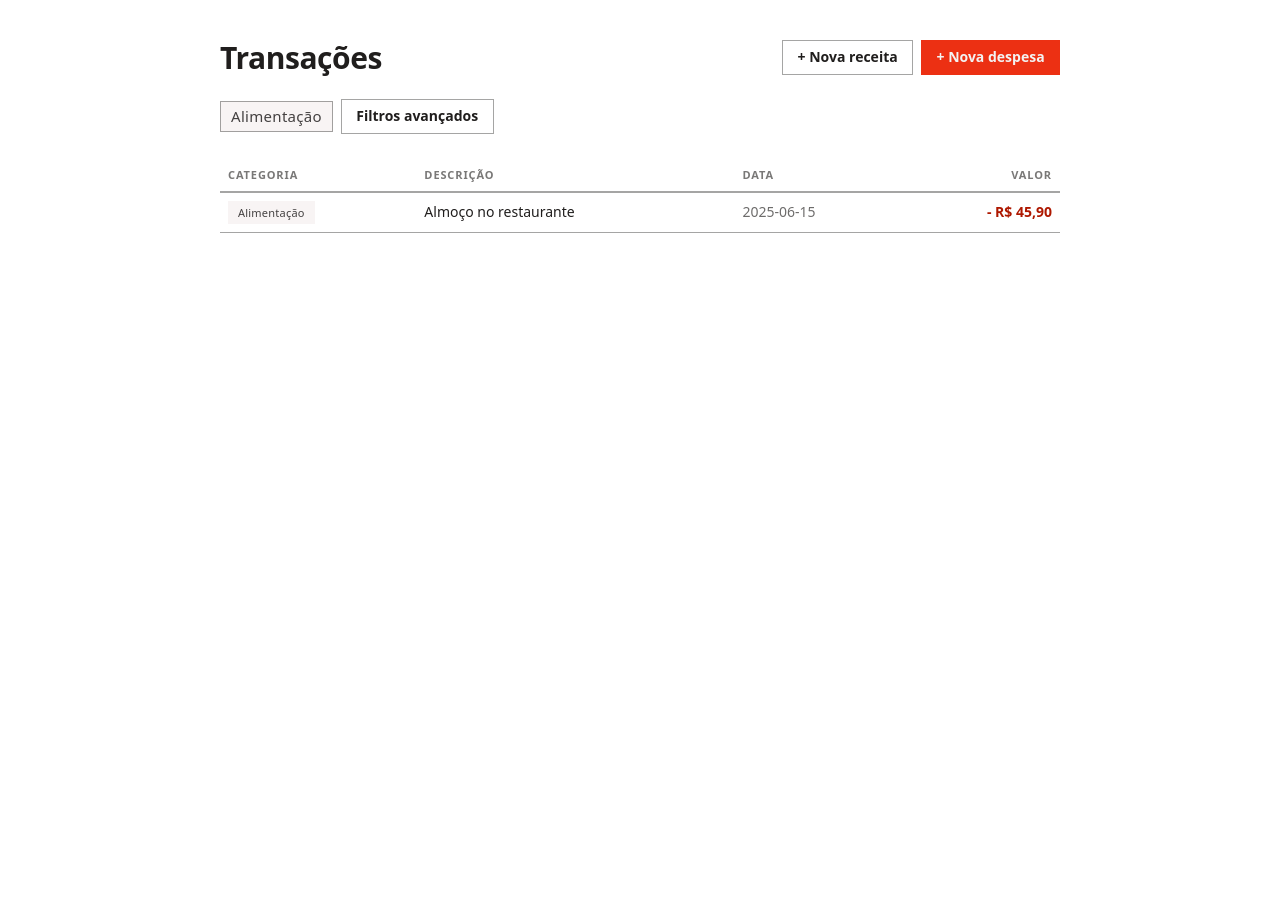
Test case: TransactionsListPage › "Excluir" no detalhe abre a confirmação e exclui com sucesso (FEAT-20)
Click the text "Almoço no restaurante". click: coordinates (575, 212)
box: 416,192 -> 734,232
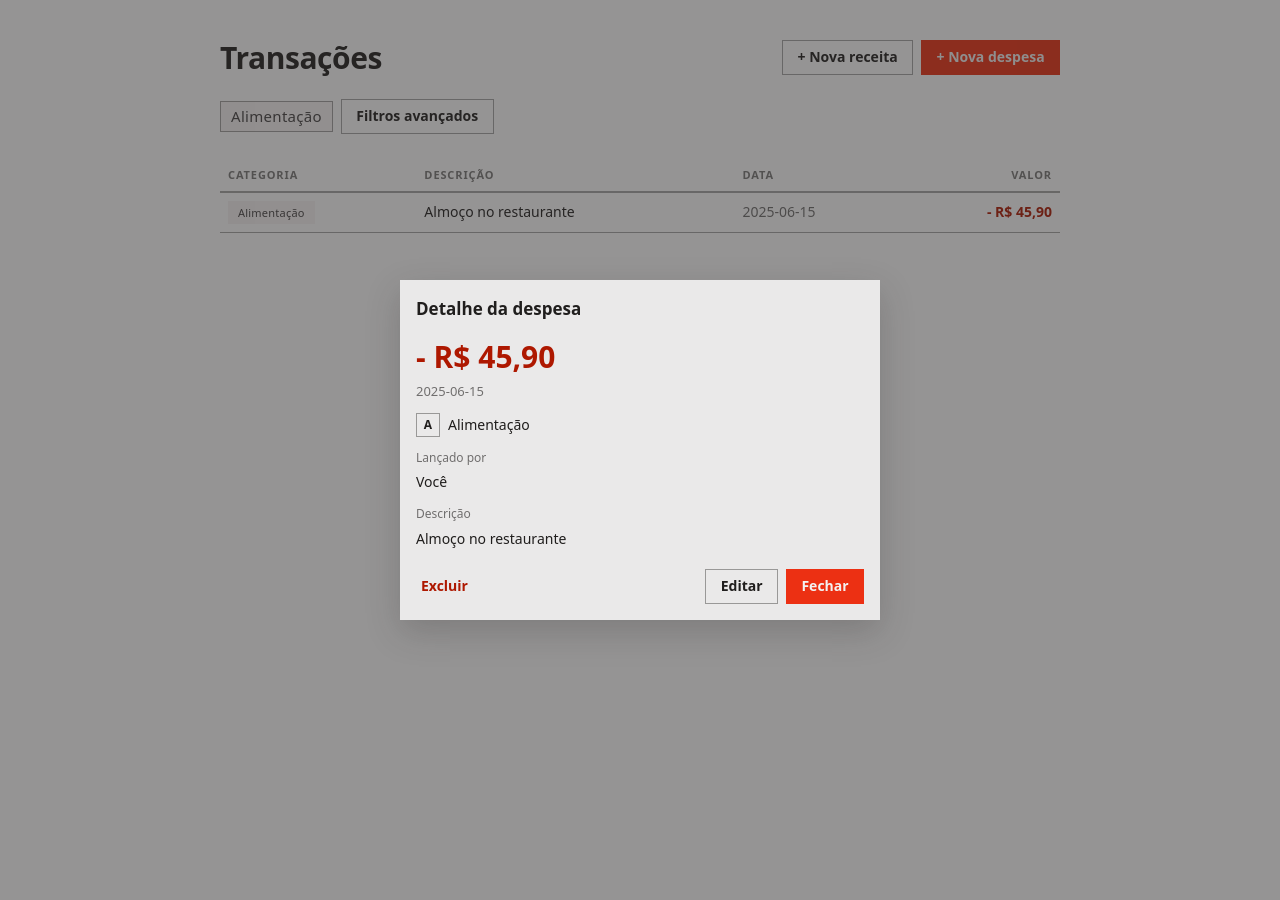
Now the text "Detalhe da despesa" is shown, box 416,297 -> 581,320
Click the button "Excluir". click: coordinates (444, 587)
box: 416,569 -> 473,604
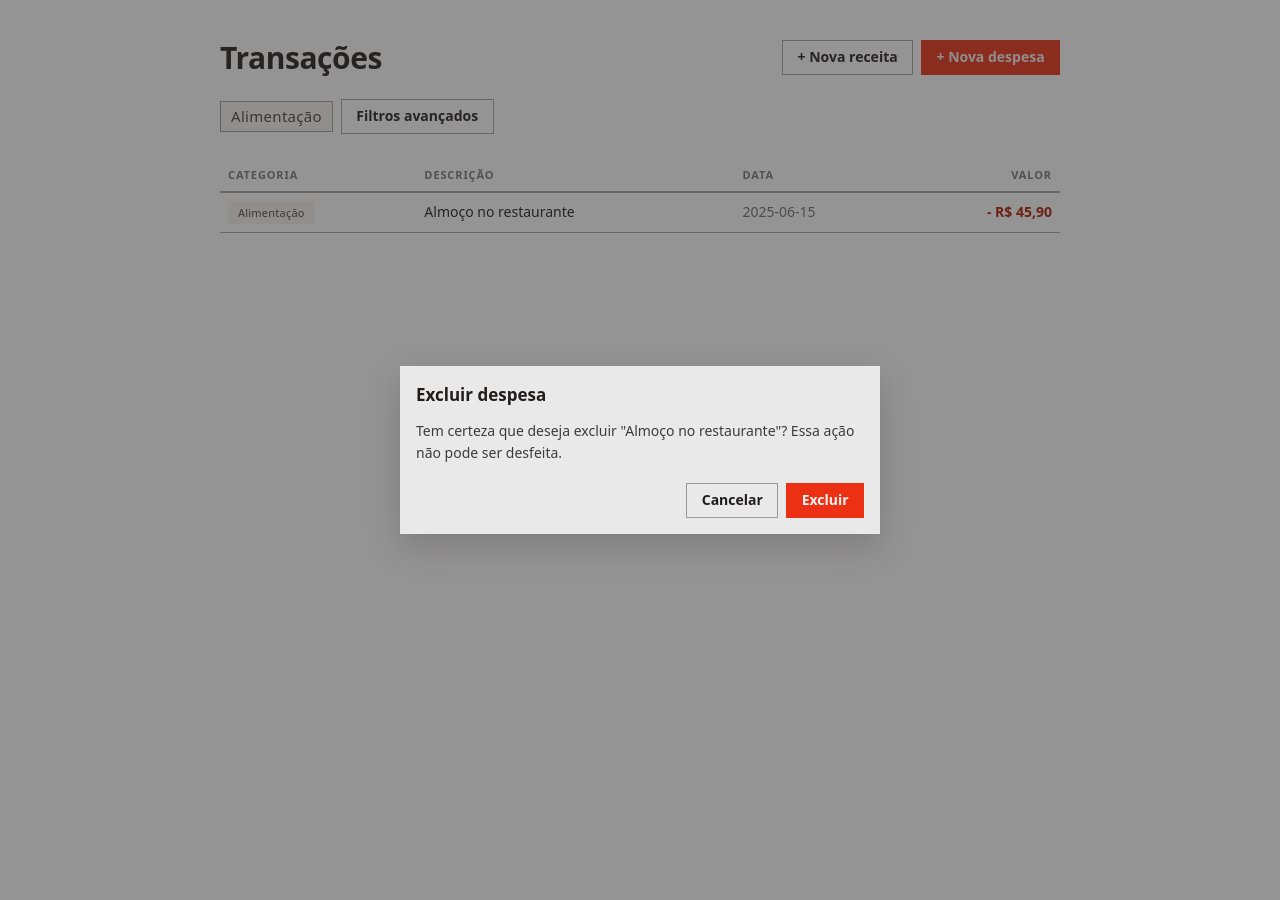
Now the text "Excluir despesa" is shown, box 416,383 -> 546,406
Click the button "Excluir". click: coordinates (825, 501)
box: 786,484 -> 864,518
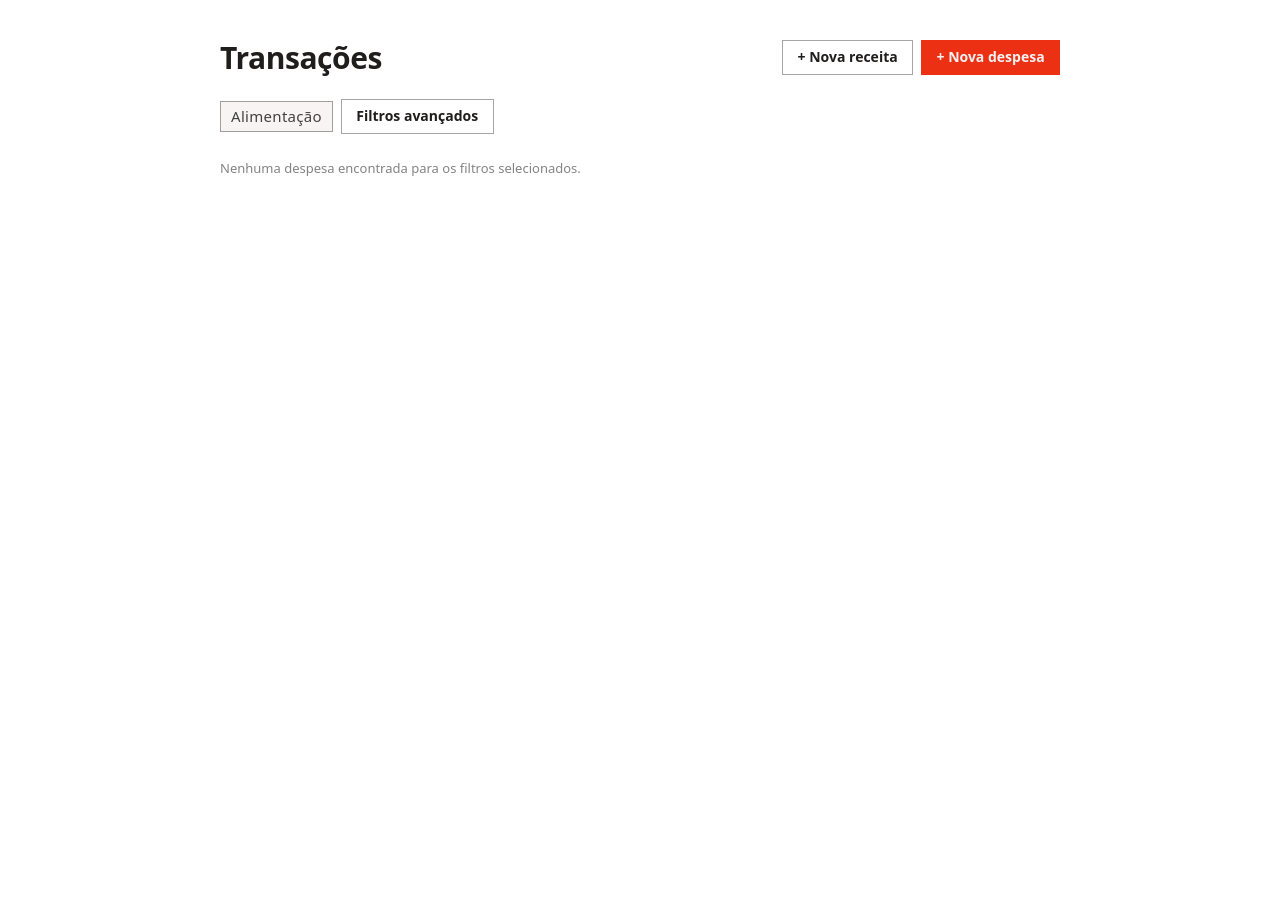
Now the text "Almoço no restaurante" is gone
